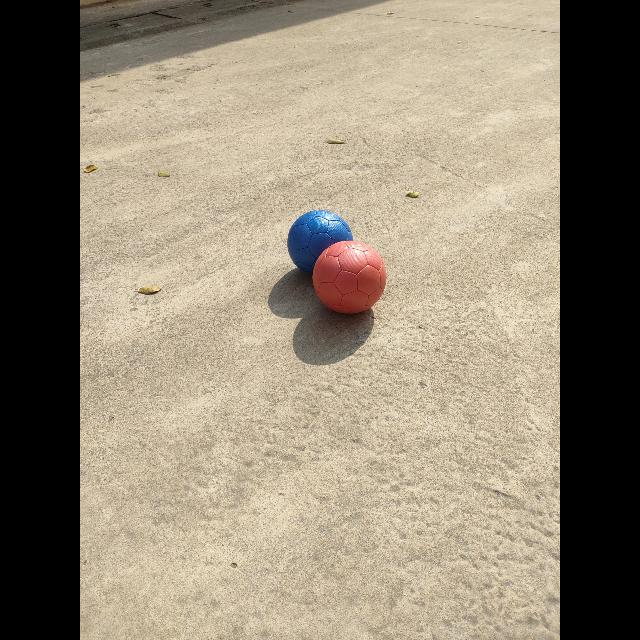B: (287, 210, 354, 275)
R: (312, 241, 387, 314)
